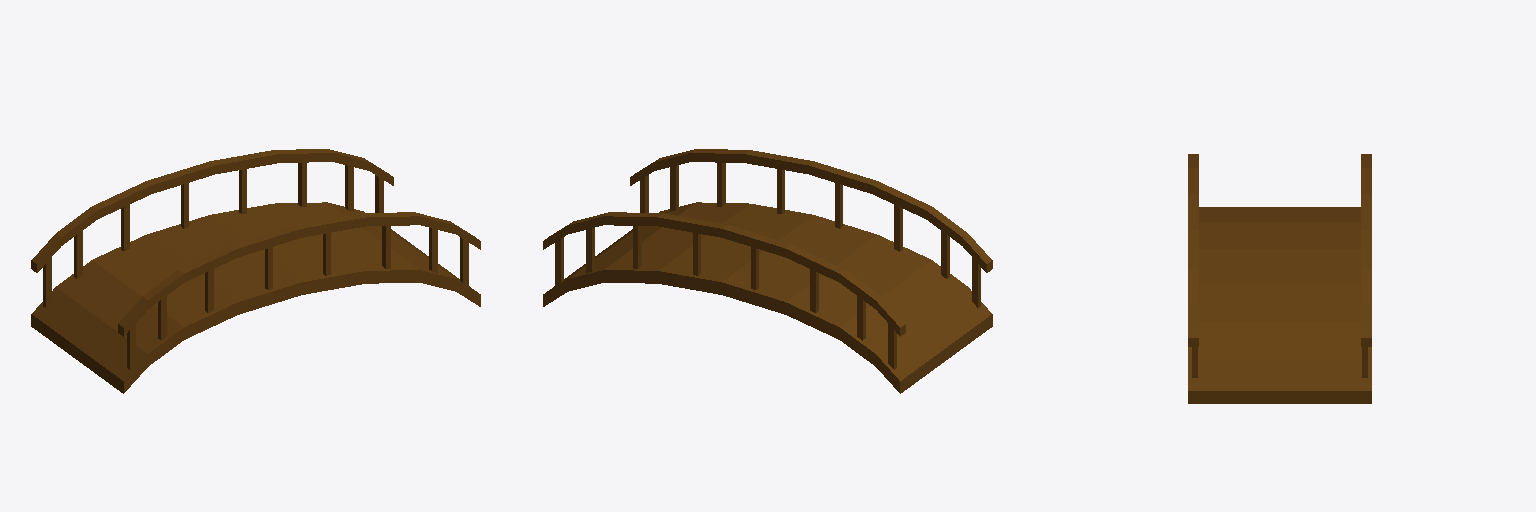
The model's file is bridge1.obj.
The picture shows the model from 3 angles: view 1: azimuth 30°, elevation 25°; view 2: azimuth 150°, elevation 25°; view 3: azimuth 270°, elevation 25°; orthographic projection.
Parts seen in each view (by area): view 1: Cylinder_Mesh.001; view 2: Cylinder_Mesh.001; view 3: Cylinder_Mesh.001.
Part boxes in pixels (x1,y1,x2,y2): Cylinder_Mesh.001: (31,149,480,393); Cylinder_Mesh.001: (543,149,992,393); Cylinder_Mesh.001: (1188,154,1371,403).
Bounding box in the file's own units: 4.47 × 1.46 × 2.